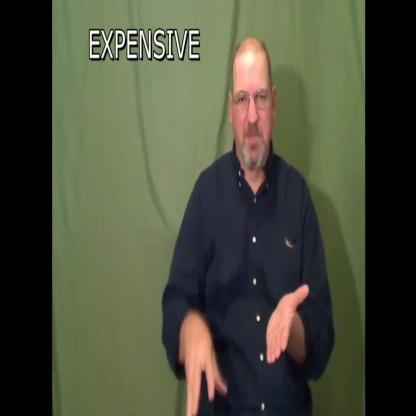Expensive: (163, 32, 335, 416)
